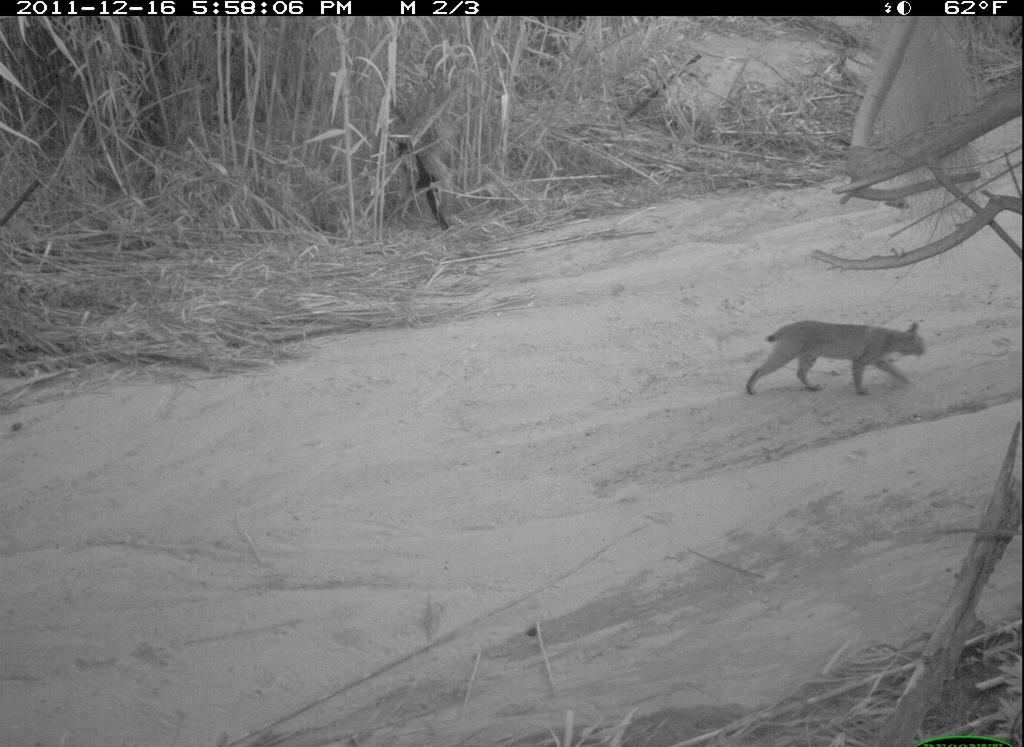bobcat: (738, 313, 935, 415)
